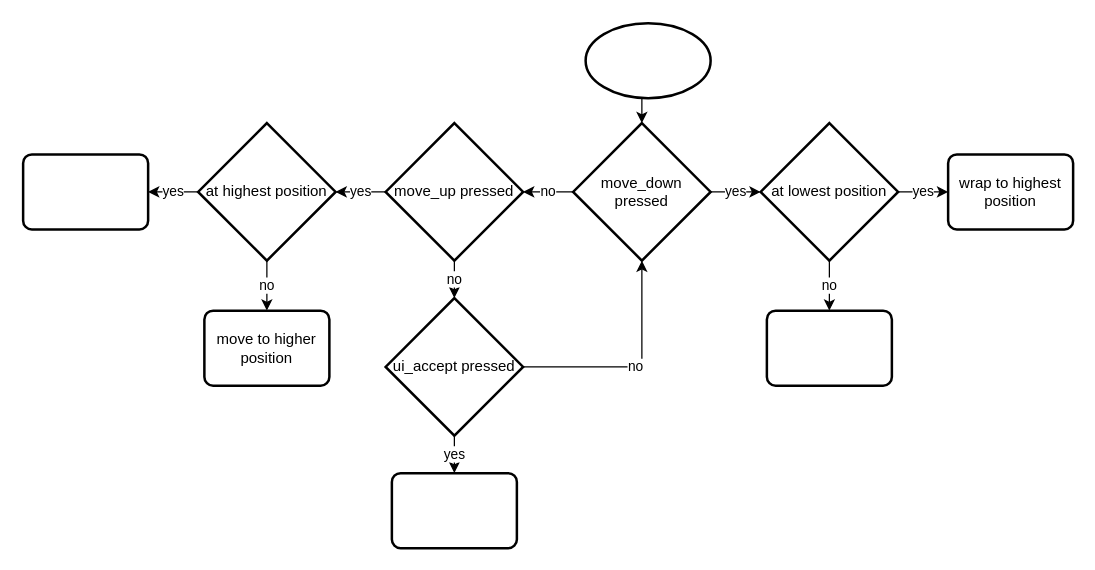
The diagram is 1095 pixels wide and 570 high, and some of its shapes have lost their labels. The shapes that lost their labels are listed below. From the top down, each one's centre as x and y in pixels, then its label:
At [647,60]: "Start".
At [85,191]: "wrap to lowest position".
At [828,347]: "move to lower position".
At [454,510]: "handle selection".
